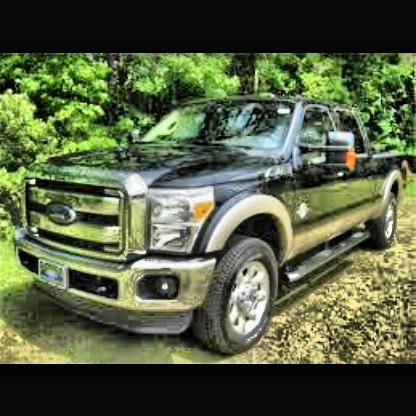Ford F-450 Super Duty Crew Cab 2012: (14, 100, 405, 355)
